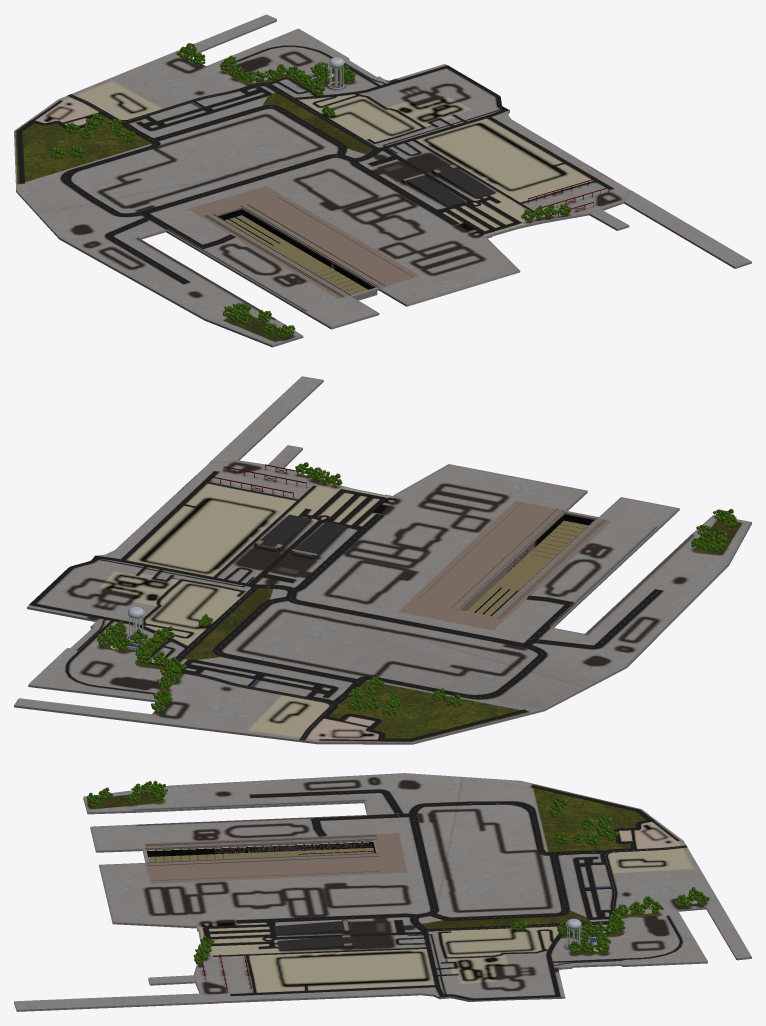
Rendered from Philly_Area-1.glb.
3 views of the same model, one above another, from view 1: azimuth 30°, elevation 25°; view 2: azimuth 150°, elevation 25°; view 3: azimuth 270°, elevation 25° (orthographic). The views are drawn at different scales.
Parts seen in each view (by area): view 1: Philly_Area 1; view 2: Philly_Area 1; view 3: Philly_Area 1.
Boxes of the visible parts, x1,y1,x2,y2 form: Philly_Area 1: (14, 14, 751, 347); Philly_Area 1: (14, 376, 751, 744); Philly_Area 1: (14, 773, 751, 1011).
Bounding box in the file's own units: 823 × 55.37 × 1084.
Materials: 22 (10 with a texture image).
